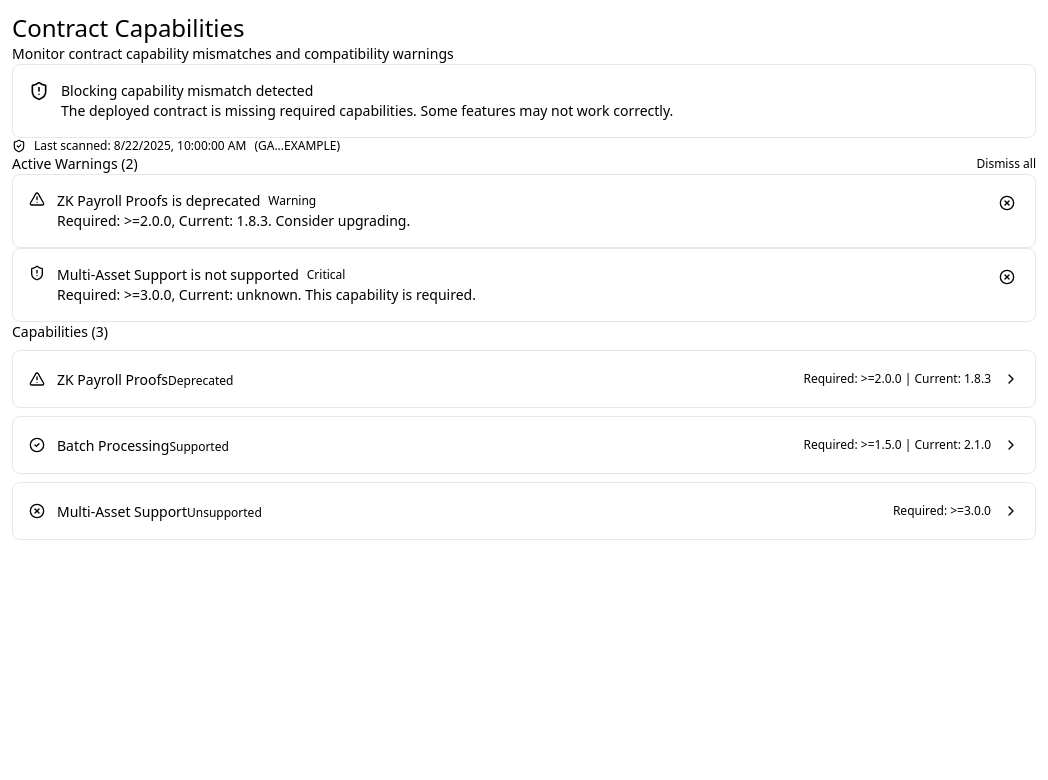
Test: CapabilityMismatchPanel › dismisses a warning when dismiss button is clicked
Check: the heading "Active Warnings (2)" is shown, box [12,154,138,174]
Click the button titled "Dismiss" in the row of "ZK Payroll Proofs is deprecated" at (1007, 203), box [995,191,1019,215]
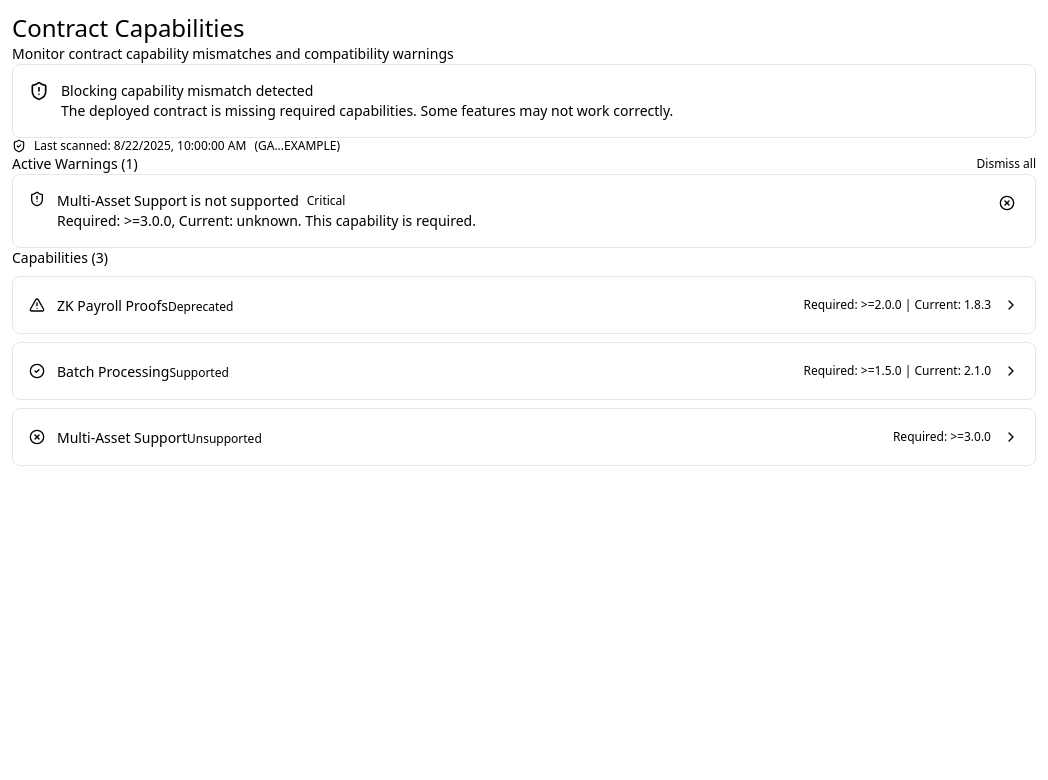
Check: the heading "Active Warnings (1)" is shown, box [12,154,138,174]
